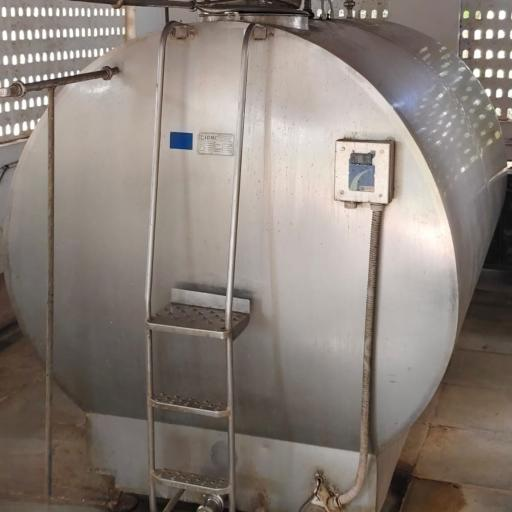silo: (0, 1, 511, 510)
